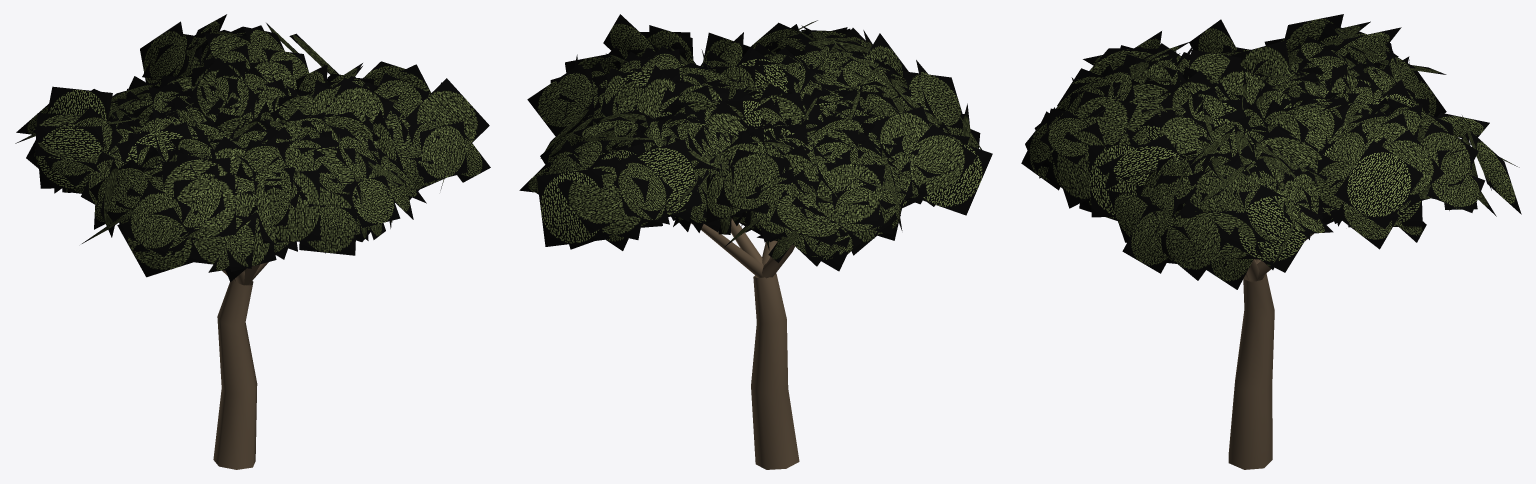
File: andes_molle_lod0.glb
3 renders of one model, left to right at view 1: azimuth 30°, elevation 25°; view 2: azimuth 150°, elevation 25°; view 3: azimuth 270°, elevation 25°, orthographic. The views are drawn at different scales.
Visible parts, largest first — view 1: GEO-Andes_molle_LOD0; view 2: GEO-Andes_molle_LOD0; view 3: GEO-Andes_molle_LOD0.
Part boxes in pixels (box(x1,y1,x2,y2)): GEO-Andes_molle_LOD0: box(15, 14, 490, 469); GEO-Andes_molle_LOD0: box(519, 14, 992, 469); GEO-Andes_molle_LOD0: box(1021, 14, 1521, 469).
Bounding box in the file's own units: 6.06 × 5.57 × 6.47.
2 materials, 1 textured.
